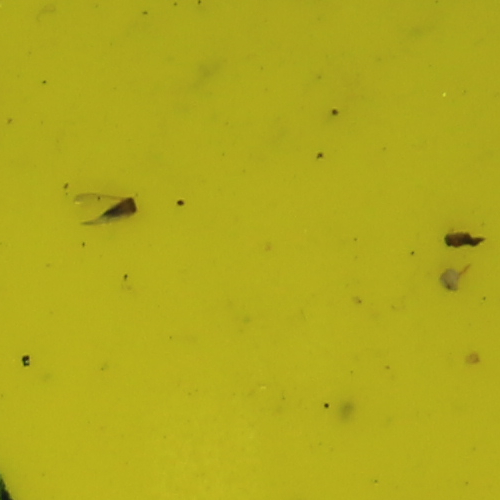psylla: (94, 193, 140, 225)
